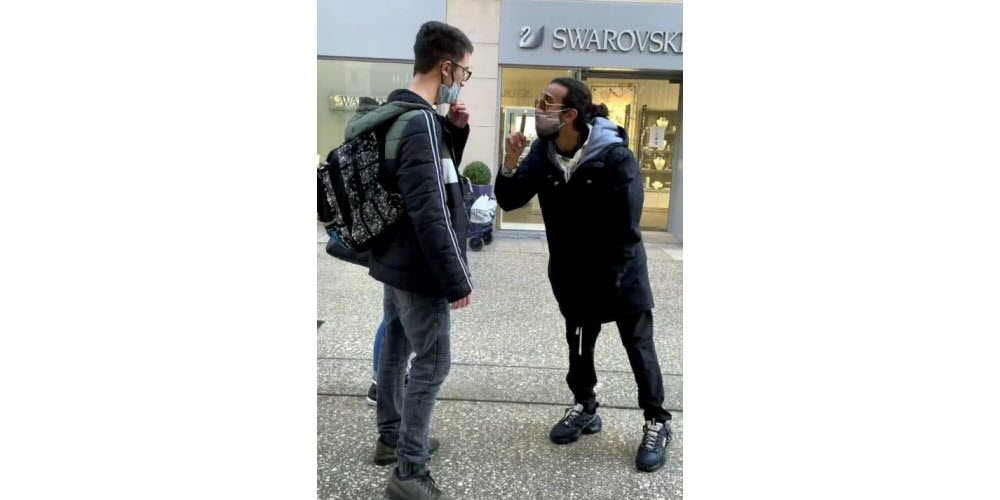with_incorrect_mask: (438, 39, 471, 110)
with_mask: (534, 80, 572, 140)
